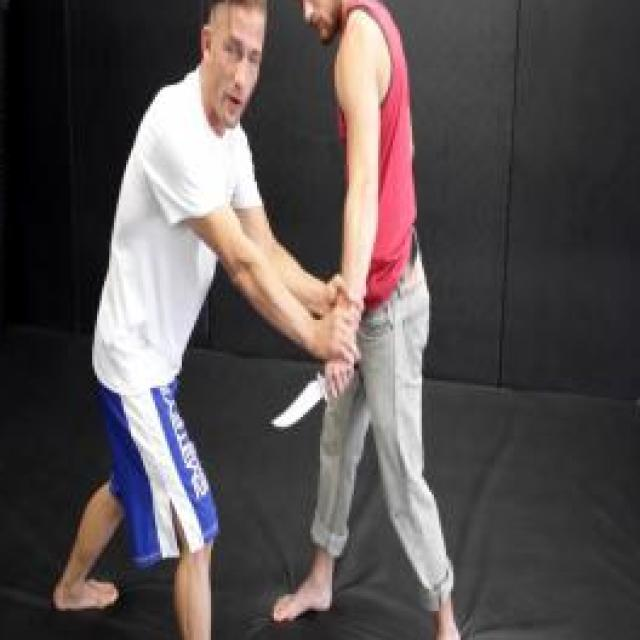knife: (264, 349, 364, 440)
